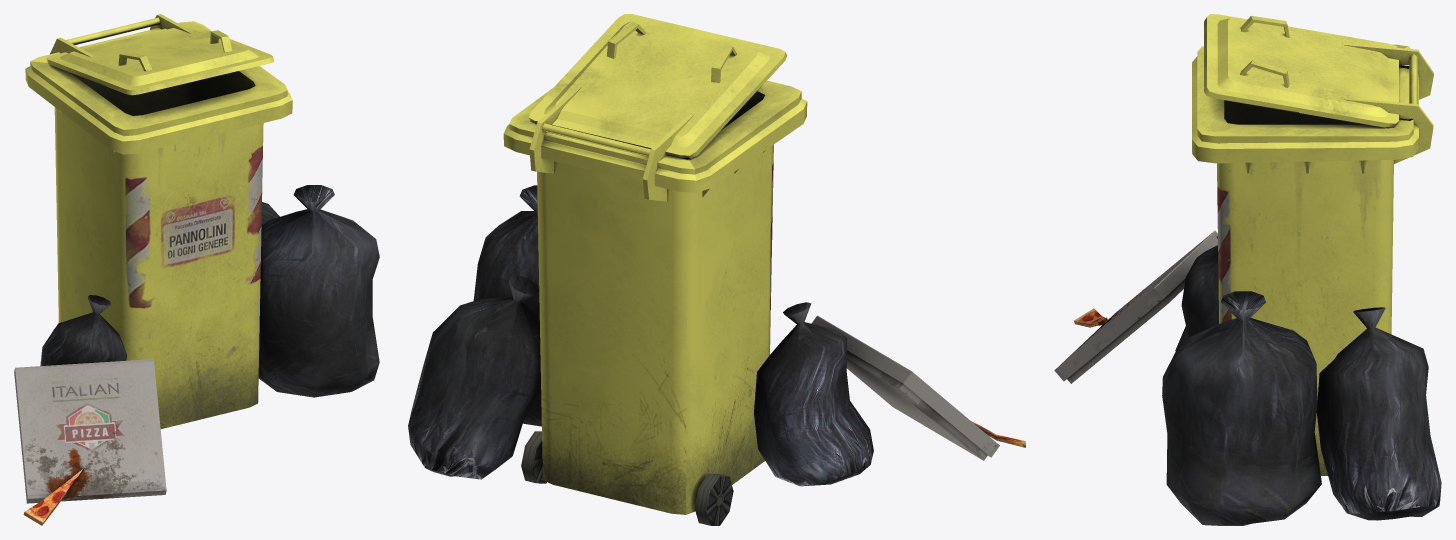
File: trash container.fbx
3 views of the same model, side by side, from view 1: azimuth 30°, elevation 25°; view 2: azimuth 150°, elevation 25°; view 3: azimuth 270°, elevation 25° (orthographic). The views are drawn at different scales.
Parts seen in each view (by area): view 1: Object001, Cylinder005, Box003; view 2: Object001, Cylinder005, Box003; view 3: Object001, Cylinder005, Box003.
Boxes of the visible parts, bbox=[...] form: Object001: bbox=[25, 14, 292, 428]; Cylinder005: bbox=[40, 185, 379, 397]; Box003: bbox=[14, 359, 166, 525]; Object001: bbox=[503, 14, 807, 525]; Cylinder005: bbox=[408, 185, 873, 486]; Box003: bbox=[811, 315, 1025, 460]; Object001: bbox=[1192, 14, 1433, 475]; Cylinder005: bbox=[1162, 236, 1441, 525]; Box003: bbox=[1054, 230, 1217, 383].
Size of the model in its own units: 177 by 154 by 130.
Materials: 3 (3 with a texture image).
